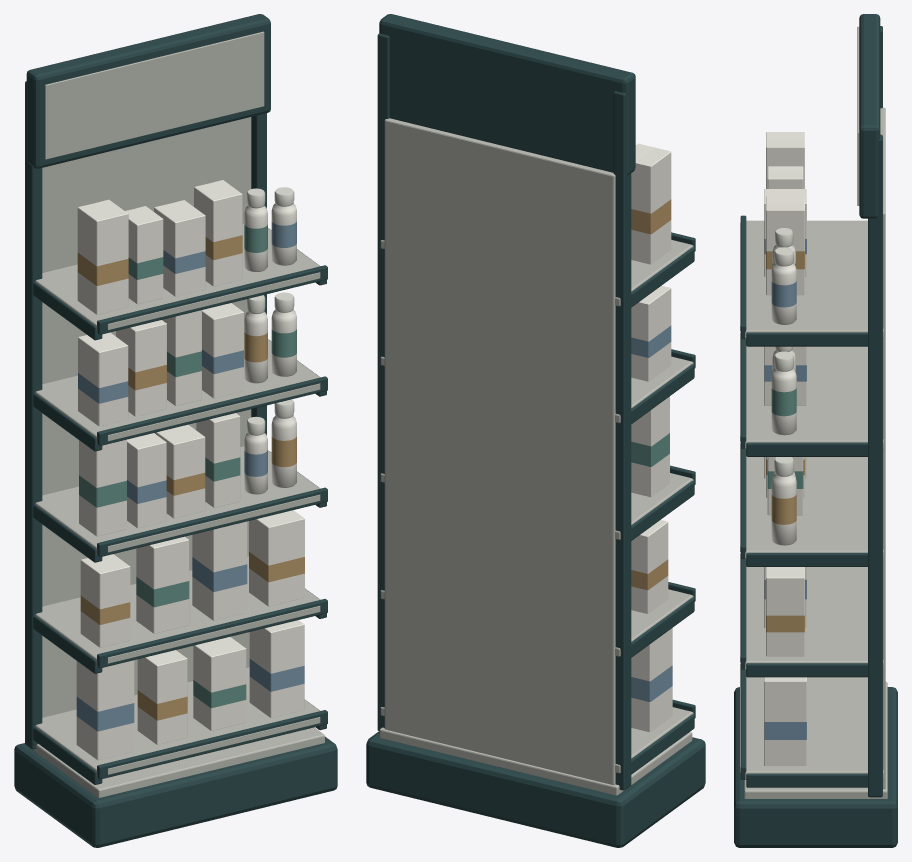
3 views of the same model, side by side, from view 1: azimuth 30°, elevation 25°; view 2: azimuth 150°, elevation 25°; view 3: azimuth 270°, elevation 25° (orthographic). The views are drawn at different scales.
Parts seen in each view (by area): view 1: BATCH_Powdercoat, BATCH_Plaincartonpaper, BATCH_Opaquebottlepolymer; view 2: BATCH_Powdercoat, BATCH_Plaincartonpaper; view 3: BATCH_Powdercoat, BATCH_Plaincartonpaper, BATCH_Opaquebottlepolymer.
Boxes of the visible parts, x1,y1,x2,y2 form: BATCH_Powdercoat: [14, 14, 337, 847]; BATCH_Plaincartonpaper: [76, 180, 304, 760]; BATCH_Opaquebottlepolymer: [244, 187, 296, 494]; BATCH_Powdercoat: [366, 14, 705, 847]; BATCH_Plaincartonpaper: [631, 143, 672, 732]; BATCH_Powdercoat: [734, 14, 897, 847]; BATCH_Plaincartonpaper: [764, 132, 806, 765]; BATCH_Opaquebottlepolymer: [771, 228, 796, 545].
Bounding box in the file's own units: 0.6 × 1.7 × 0.35.
